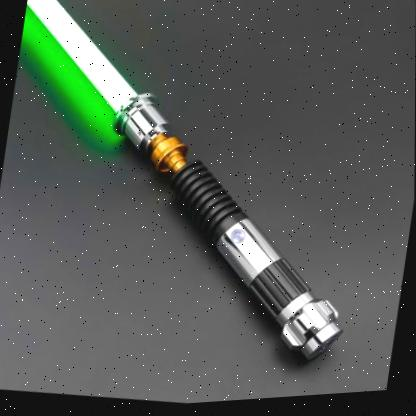lightsaber: (0, 0, 394, 396)
